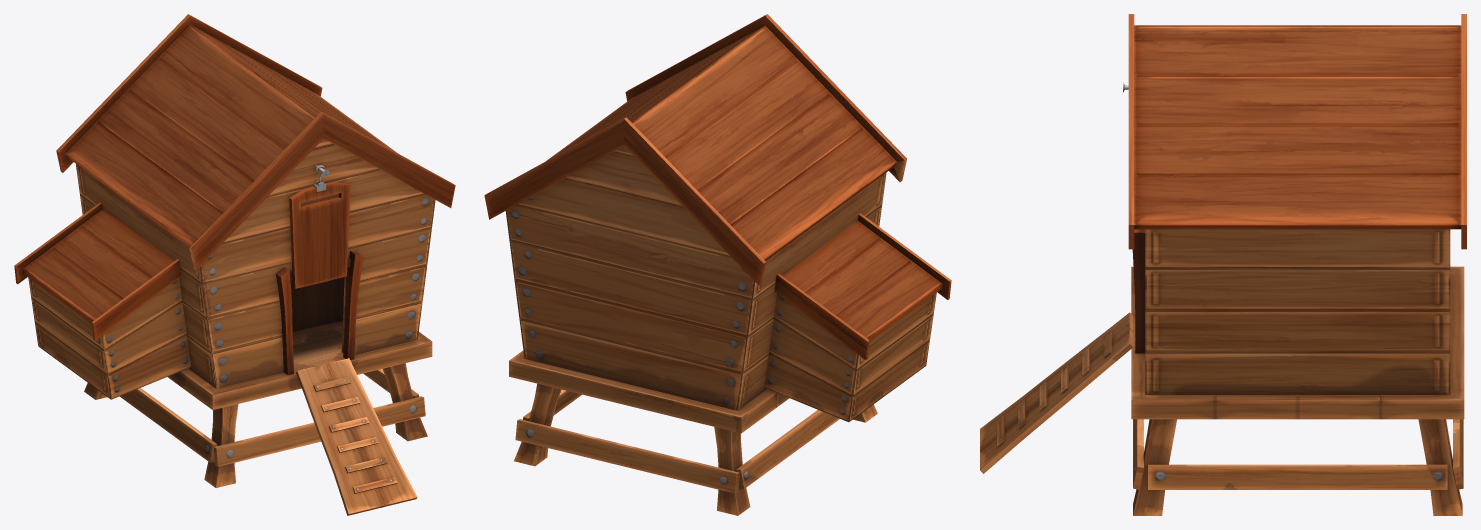
Rendered from ChickenHouse01.FBX.
3 renders of one model, left to right at view 1: azimuth 30°, elevation 25°; view 2: azimuth 150°, elevation 25°; view 3: azimuth 270°, elevation 25°, orthographic. The views are drawn at different scales.
Parts seen in each view (by area): view 1: СhickenHouse01; view 2: СhickenHouse01; view 3: СhickenHouse01.
Boxes of the visible parts, left/top/right/bottom form: СhickenHouse01: left=14, top=14, right=455, bottom=515; СhickenHouse01: left=484, top=14, right=951, bottom=515; СhickenHouse01: left=980, top=14, right=1466, bottom=515.
Size of what is drawn, in the model's own units: 2.24 by 2.25 by 2.26.
